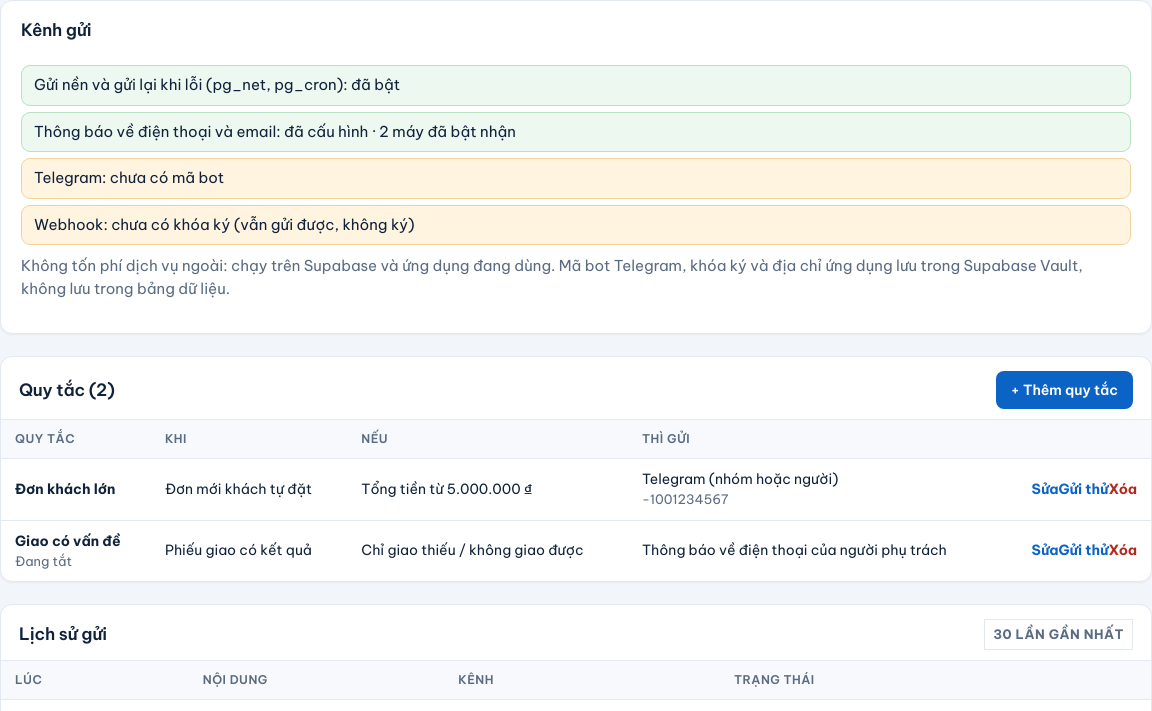
Test: sends a test and deletes after confirming
Click the button "Gửi thử" in the row of "Đơn mới khách tự đặt" at (1083, 490), box left=1058, top=479, right=1108, bottom=500
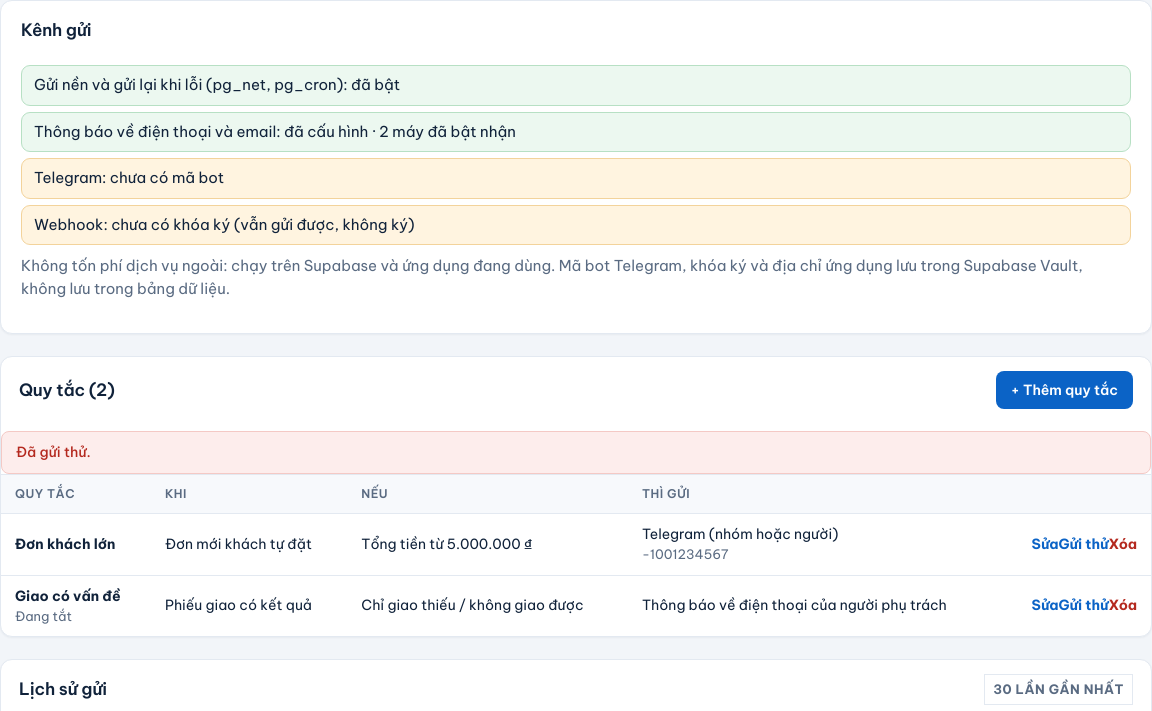
expect the text "Đã gửi thử." is shown: met, box left=1, top=431, right=1151, bottom=474
Click the button "Xóa" in the row of "Đơn mới khách tự đặt" at (1123, 544), box left=1108, top=534, right=1137, bottom=555
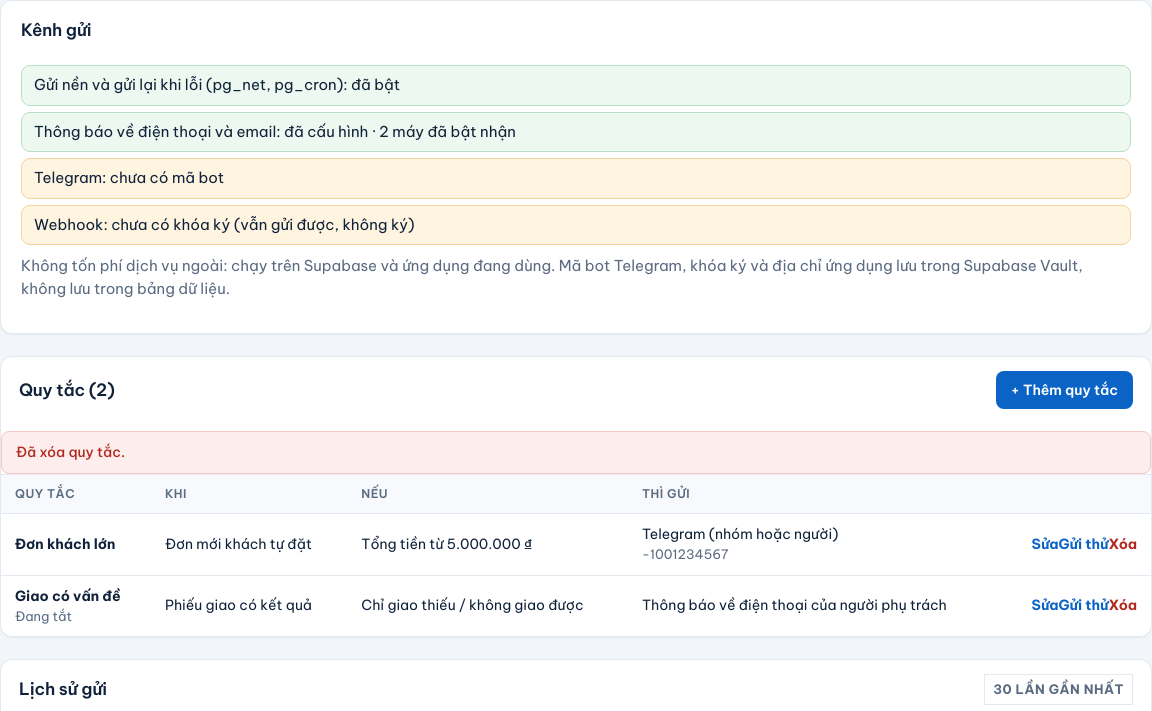
expect the text "Đã xóa quy tắc." is shown: met, box left=1, top=431, right=1151, bottom=474
